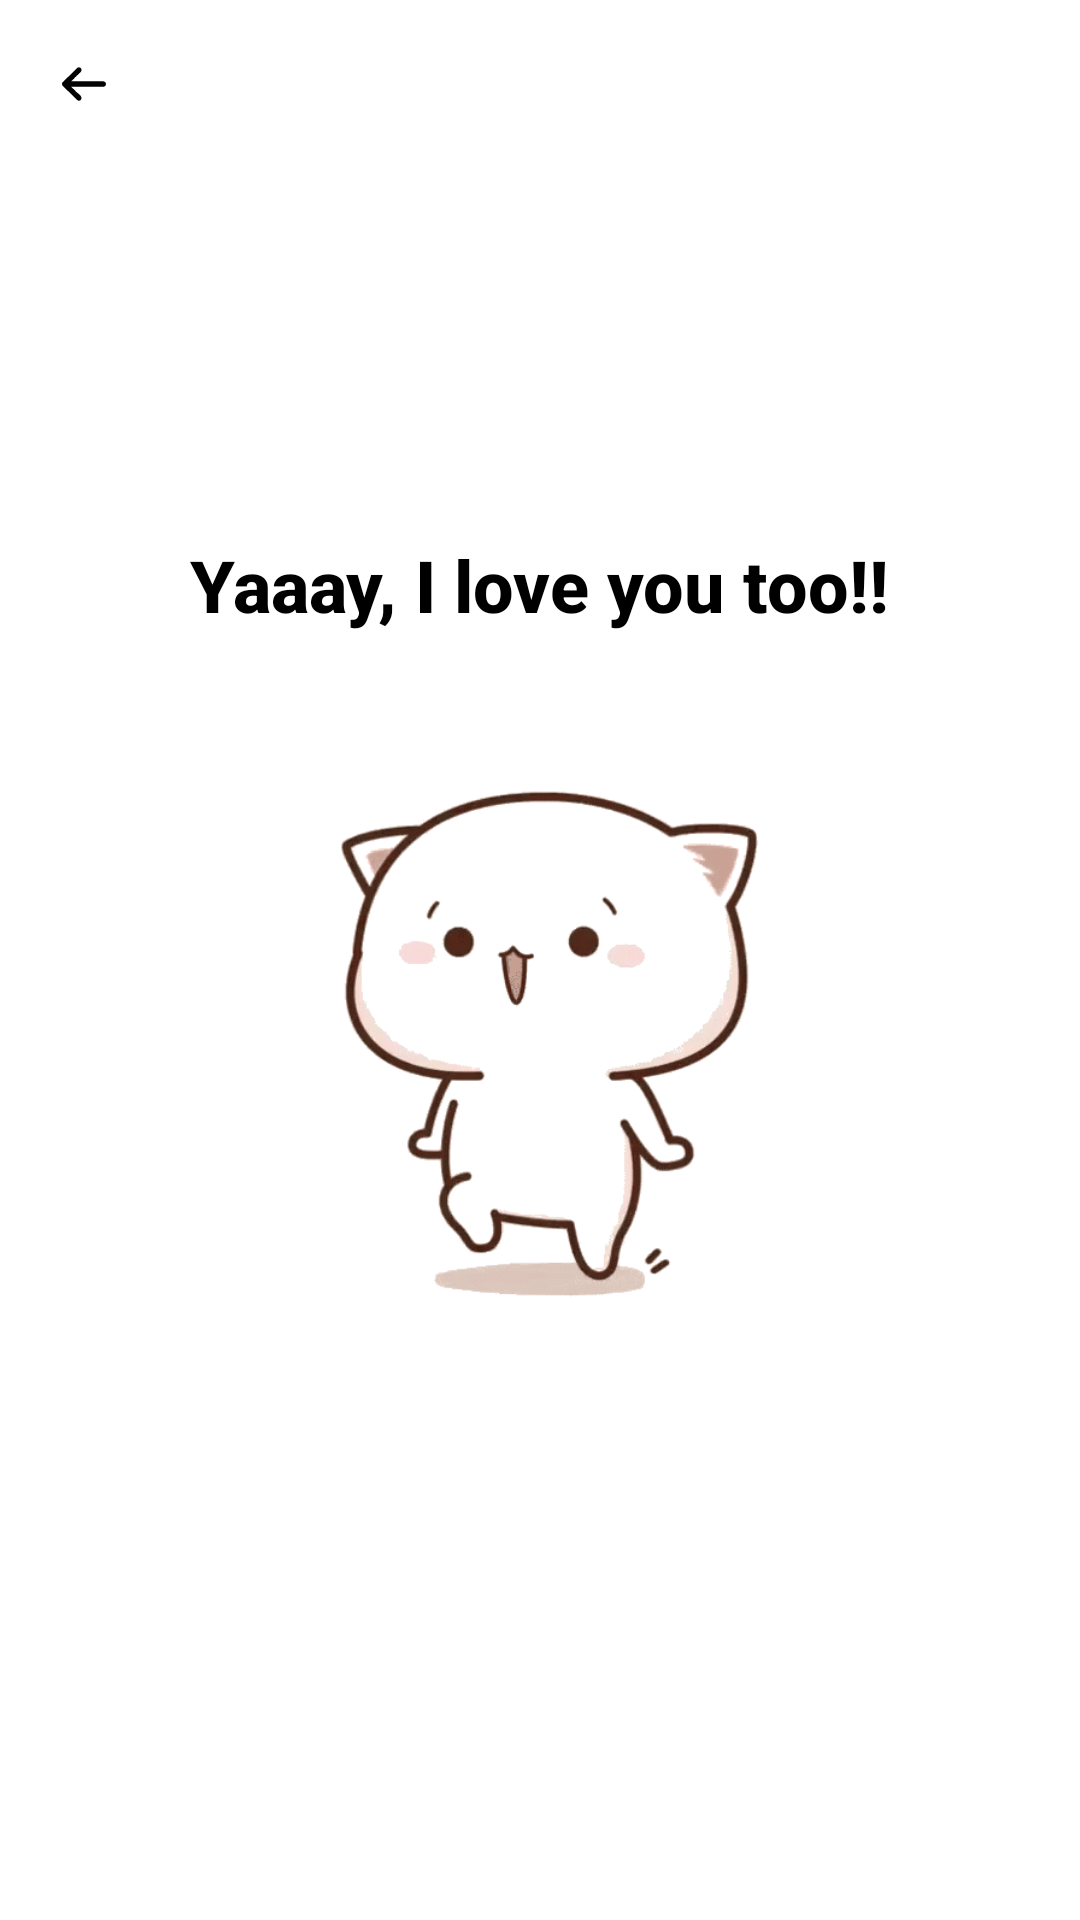

Point at icon controls on the screen. Image size 1080px×1920px, points as [x,y].
back: [84,84]
